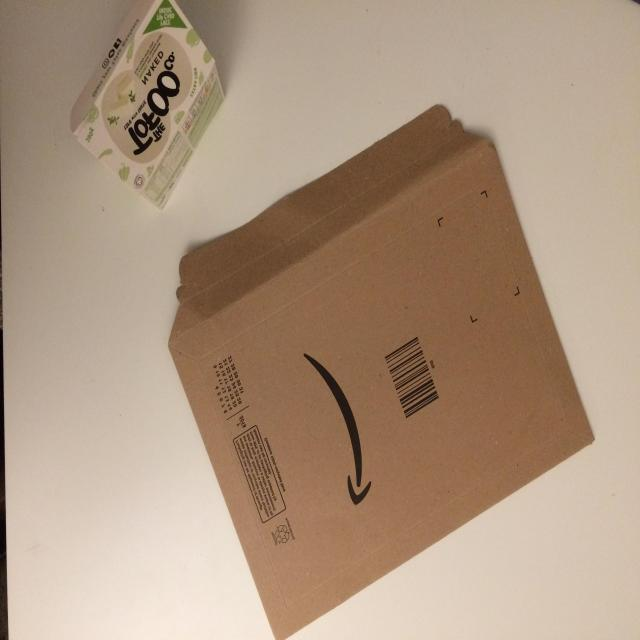cardboard: (170, 108, 595, 640), (67, 0, 231, 210)
